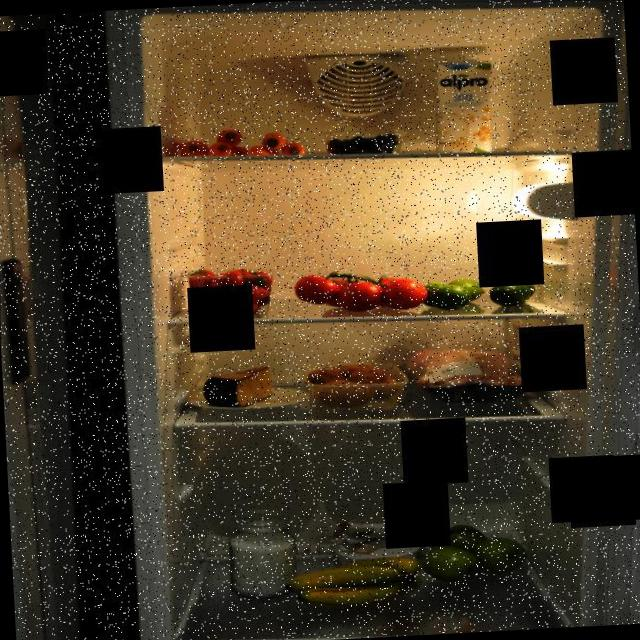Carne pollo: (398, 340, 536, 408)
Leche: (431, 53, 497, 158)
Manzana: (416, 510, 530, 588)
Patata: (300, 353, 406, 416)
Plátano: (282, 550, 426, 615)
Queso: (202, 362, 280, 411)
Tomate: (293, 263, 432, 320)
Zanahoria: (177, 120, 316, 162)
blueberries: (320, 125, 408, 158)
flour: (332, 511, 438, 576)
strawberries: (180, 262, 278, 326)
sugar: (224, 505, 304, 602)
